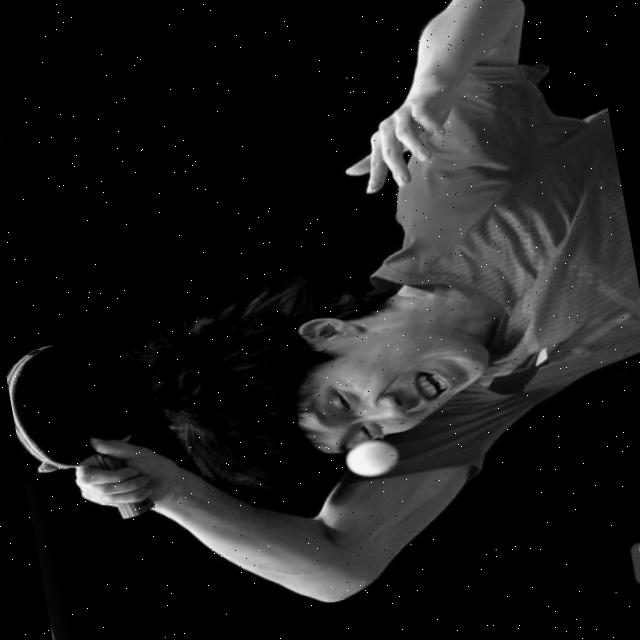ping-pong-ball: (338, 434, 400, 481)
